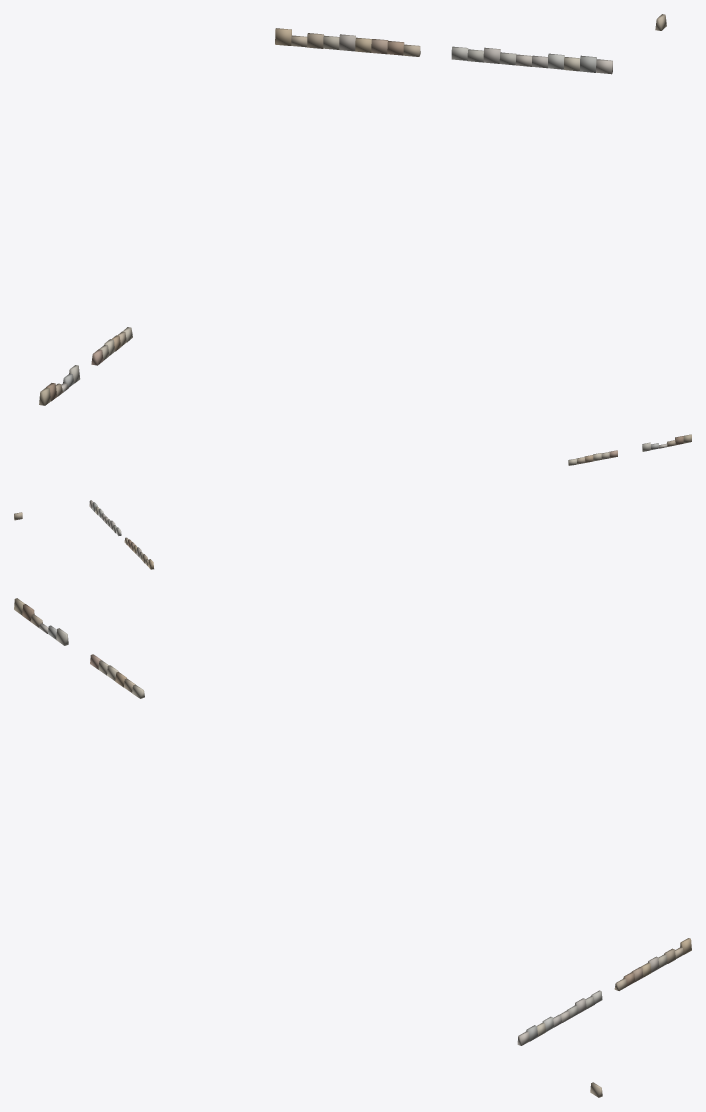
The model's file is farm_12_0_collision.glb.
3 renders of one model, top to bottom at view 1: azimuth 30°, elevation 25°; view 2: azimuth 150°, elevation 25°; view 3: azimuth 270°, elevation 25°, orthographic. The views are drawn at different scales.
Visible parts, largest first — view 1: geometry_0; view 2: geometry_0; view 3: geometry_0.
Part boxes in pixels (<box>): geometry_0: <box>39,14,666,405</box>; geometry_0: <box>14,434,691,569</box>; geometry_0: <box>14,598,691,1097</box>.
Bounding box in the file's own units: 109 × 15.05 × 81.11.
